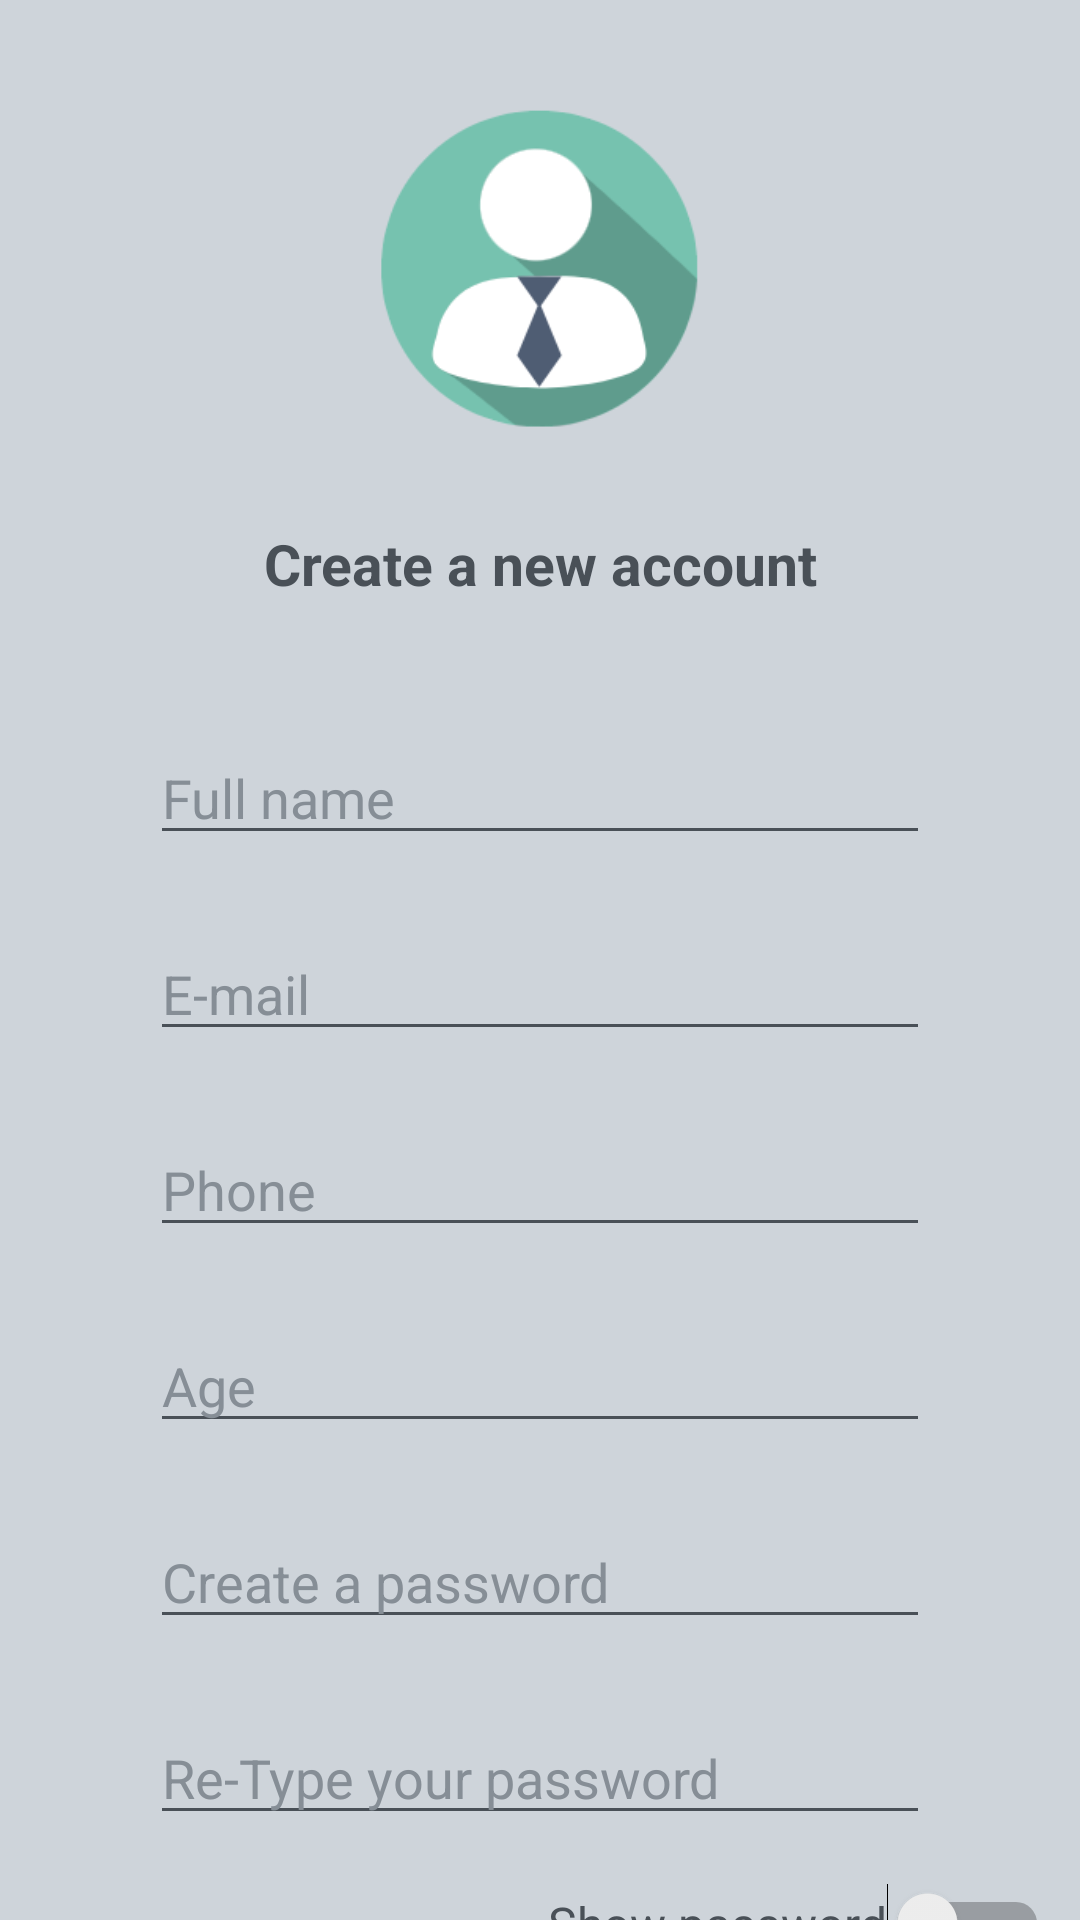

Screen size 1080 × 1920. Icon name, then its center in pixels as point (x, y):
This is person icon: point (539, 268)
